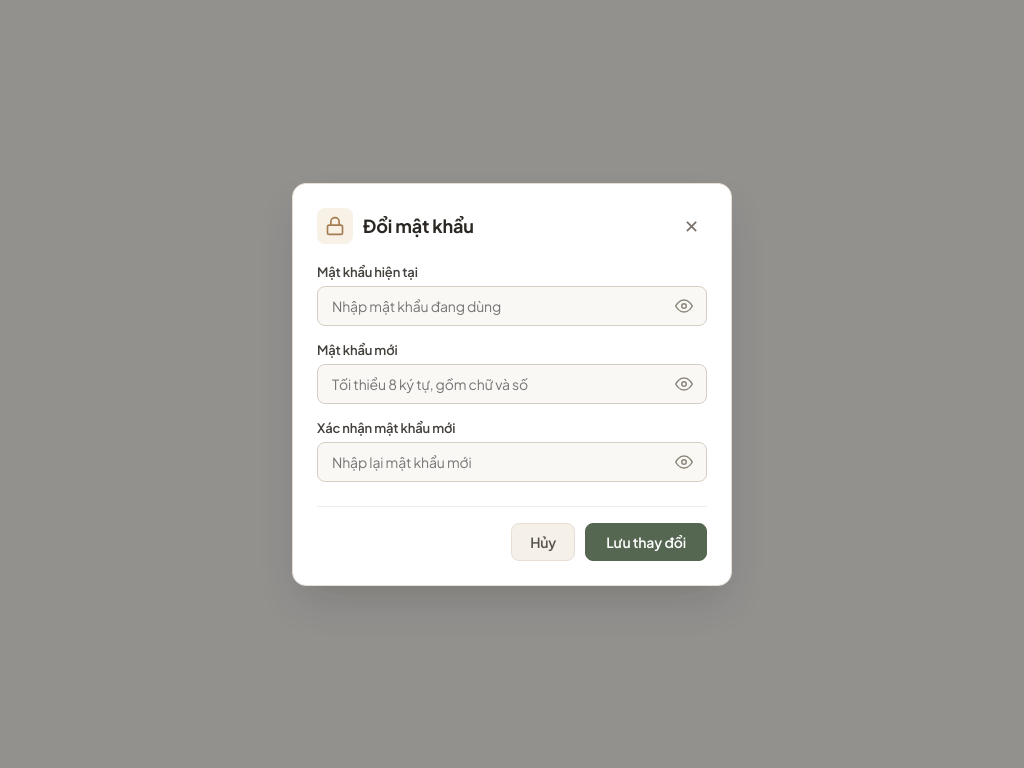
Scenario: ChangePasswordModal › validates new password format and length
Type "OldPassword123" into the password field labelled "Mật khẩu hiện tại" at [512, 306], box x1=317 y1=286 x2=707 y2=326
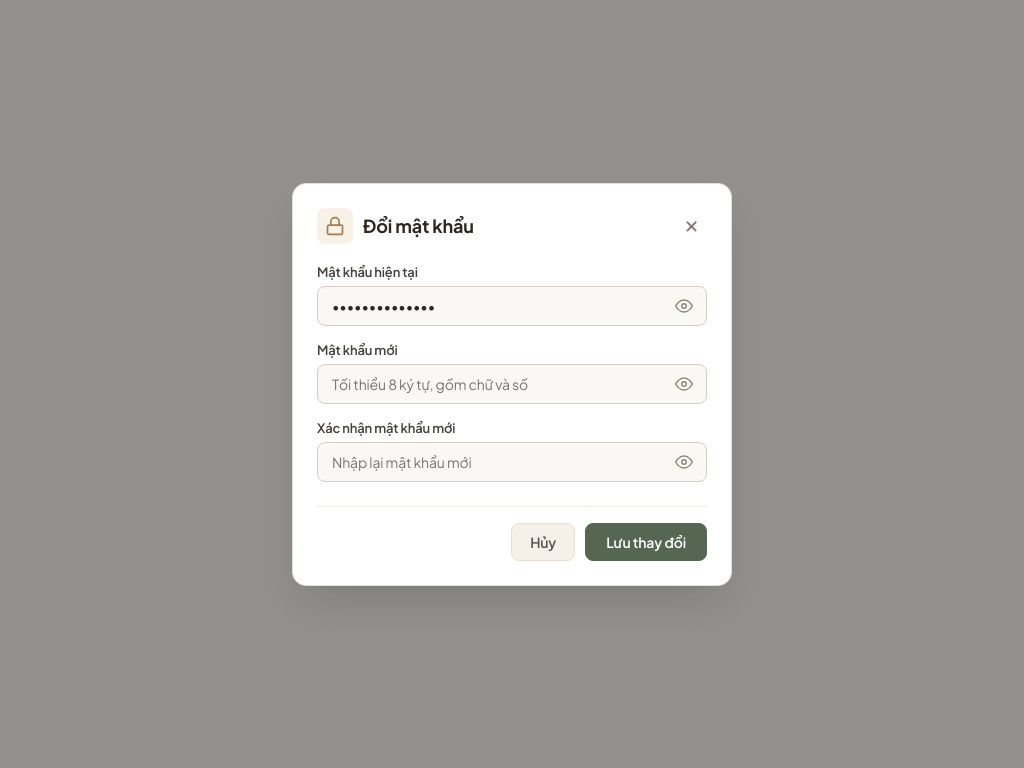
Type "short" into the password field labelled "Mật khẩu mới" at [512, 384], box x1=317 y1=364 x2=707 y2=404
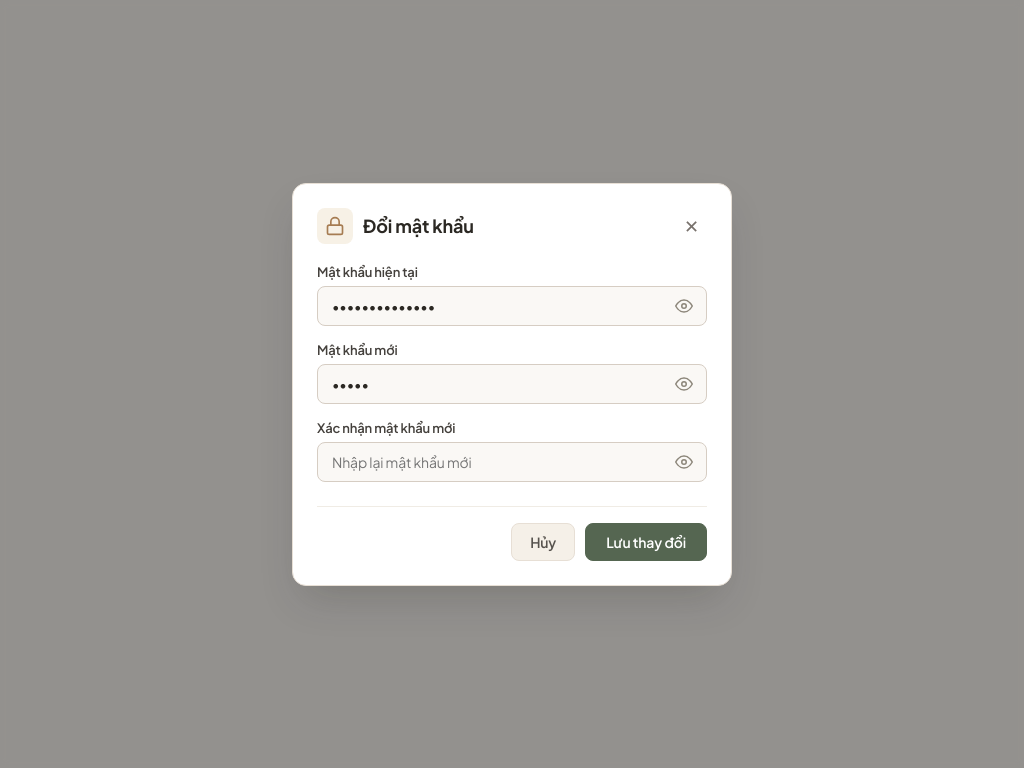
Click the button "Lưu thay đổi" at [646, 542], box x1=585 y1=522 x2=707 y2=560
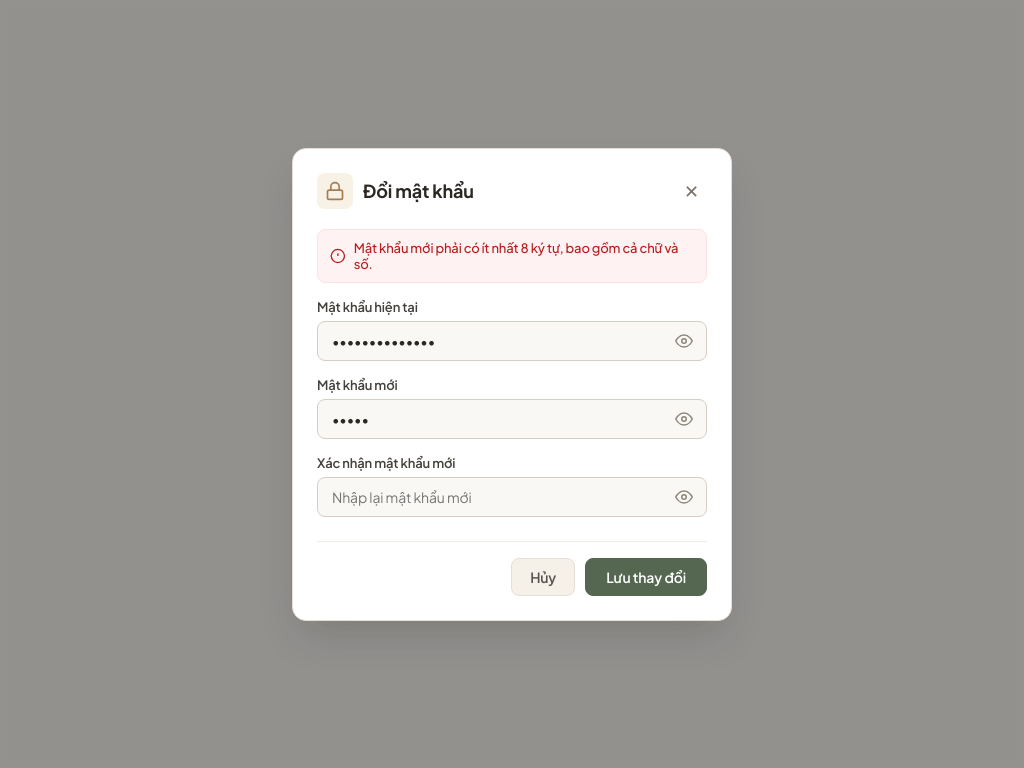
expect the text "Mật khẩu mới phải có ít nhất 8 ký tự, bao gồm cả chữ và số." is shown: met, box x1=354 y1=240 x2=694 y2=272
